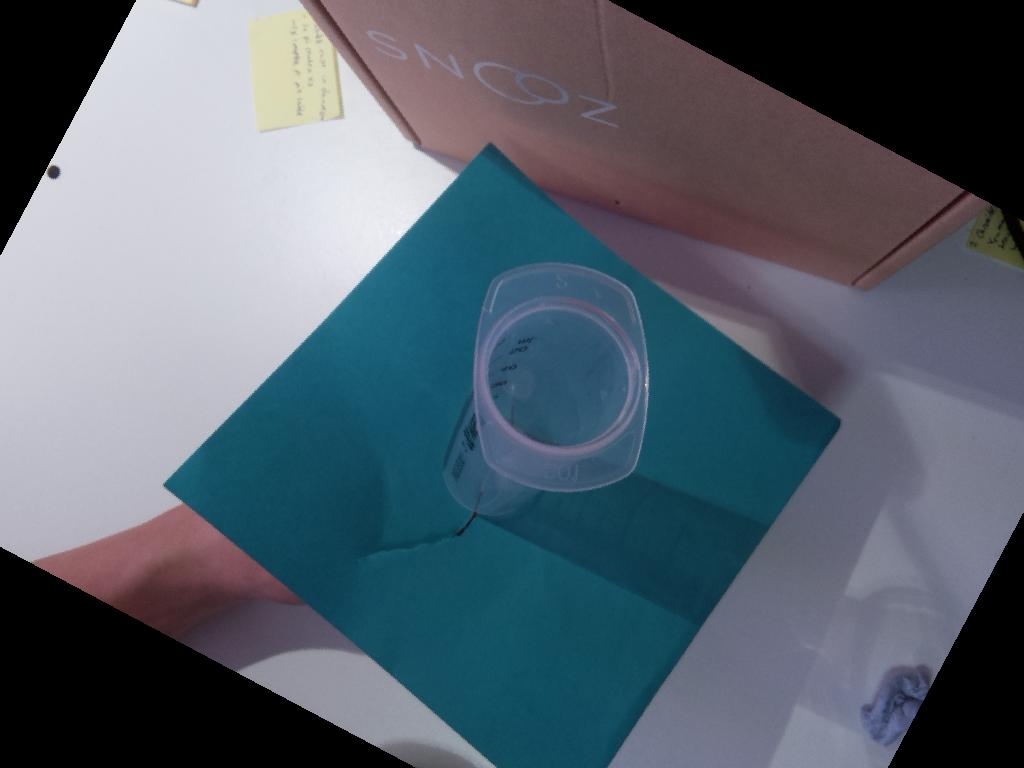clean: (473, 260, 651, 495)
